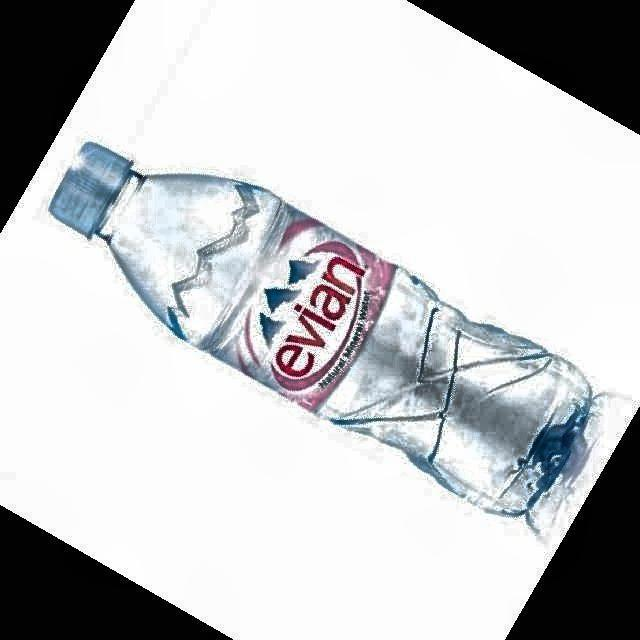plastic: (51, 142, 590, 514)
